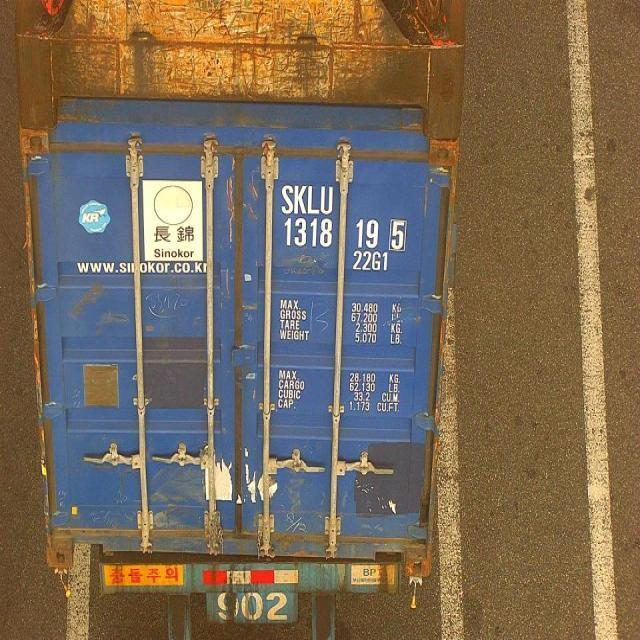ISO: (353, 251, 391, 271)
container_number: (284, 188, 404, 242)
